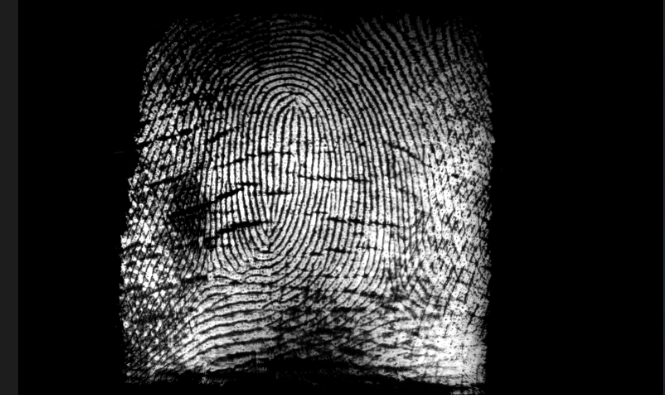deltas: (191, 235, 237, 301)
nucleo: (259, 103, 302, 225)
